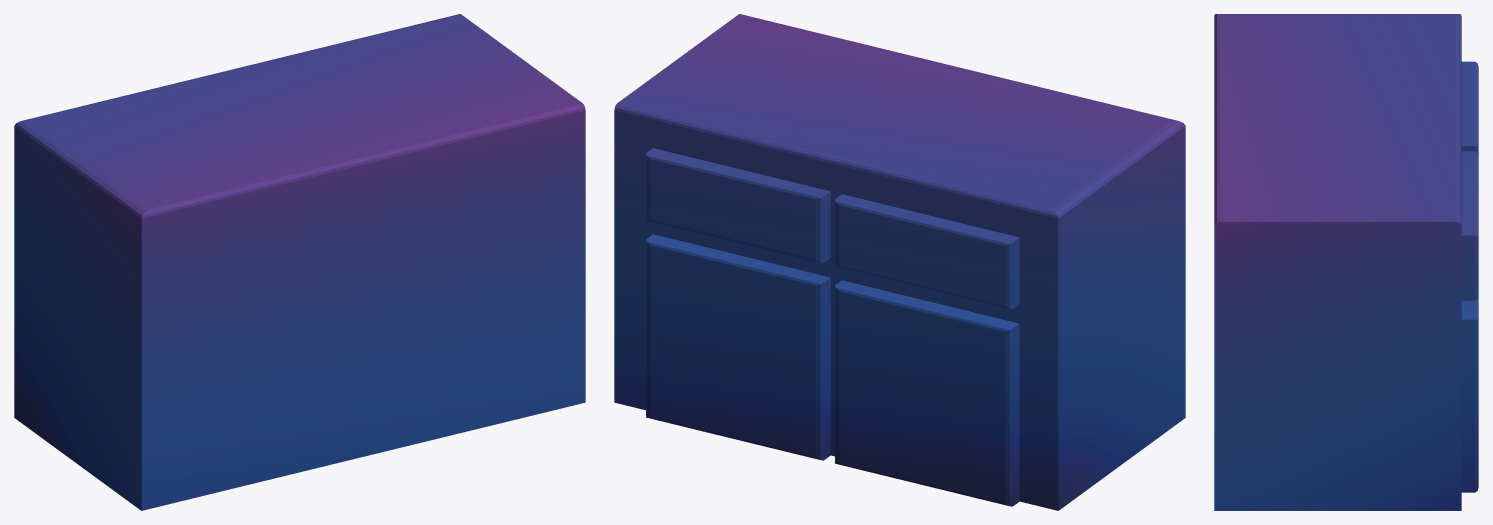
The model's file is doalp_2.fbx.
3 renders of one model, left to right at view 1: azimuth 30°, elevation 25°; view 2: azimuth 150°, elevation 25°; view 3: azimuth 270°, elevation 25°, orthographic. The views are drawn at different scales.
Visible parts, largest first — view 1: dolap_2_1; view 2: dolap_2_1, dolap_2_4_, dolap_2_5, dolap_2_2, dolap_2_3; view 3: dolap_2_1, dolap_2_5, dolap_2_3, dolap_2_2.
Boxes of the visible parts, x1,y1,x2,y2 form: dolap_2_1: (14, 14, 585, 510); dolap_2_1: (614, 14, 1185, 510); dolap_2_4_: (835, 280, 1019, 506); dolap_2_5: (646, 234, 830, 460); dolap_2_2: (835, 194, 1019, 309); dolap_2_3: (646, 148, 830, 263); dolap_2_1: (1214, 14, 1461, 510); dolap_2_5: (1461, 296, 1478, 492); dolap_2_3: (1461, 151, 1478, 300); dolap_2_2: (1461, 61, 1478, 155).
Size of the model in its own units: 474 by 303 by 251.
Materials: 1 (1 with a texture image).
